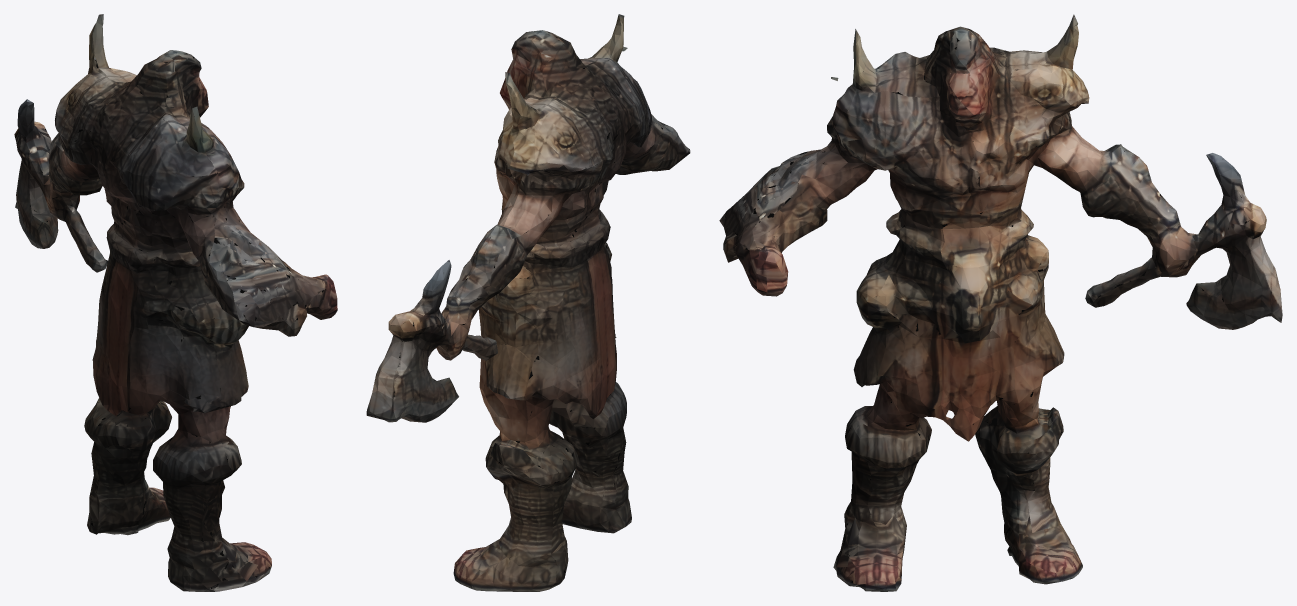
Rendered from minion_melee_3.glb.
The picture shows the model from 3 angles, left to right: view 1: azimuth 30°, elevation 25°; view 2: azimuth 150°, elevation 25°; view 3: azimuth 270°, elevation 25°; orthographic projection. The views are drawn at different scales.
Visible parts, largest first — view 1: test (11); view 2: test (11); view 3: test (11).
Boxes of the visible parts, left/top/right/bottom form: test (11): left=14, top=14, right=337, bottom=591; test (11): left=366, top=14, right=690, bottom=591; test (11): left=719, top=14, right=1282, bottom=591.
Bounding box in the file's own units: 0.8686 × 2.62 × 2.47.
1 material, 1 textured.
